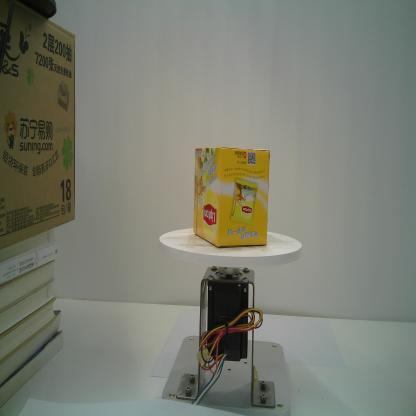Instant Drink: (192, 145, 271, 248)
